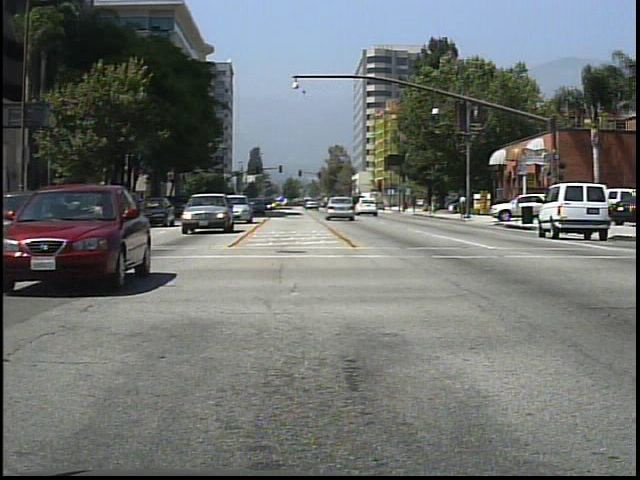person: (454, 189, 470, 221), (430, 191, 441, 215)
